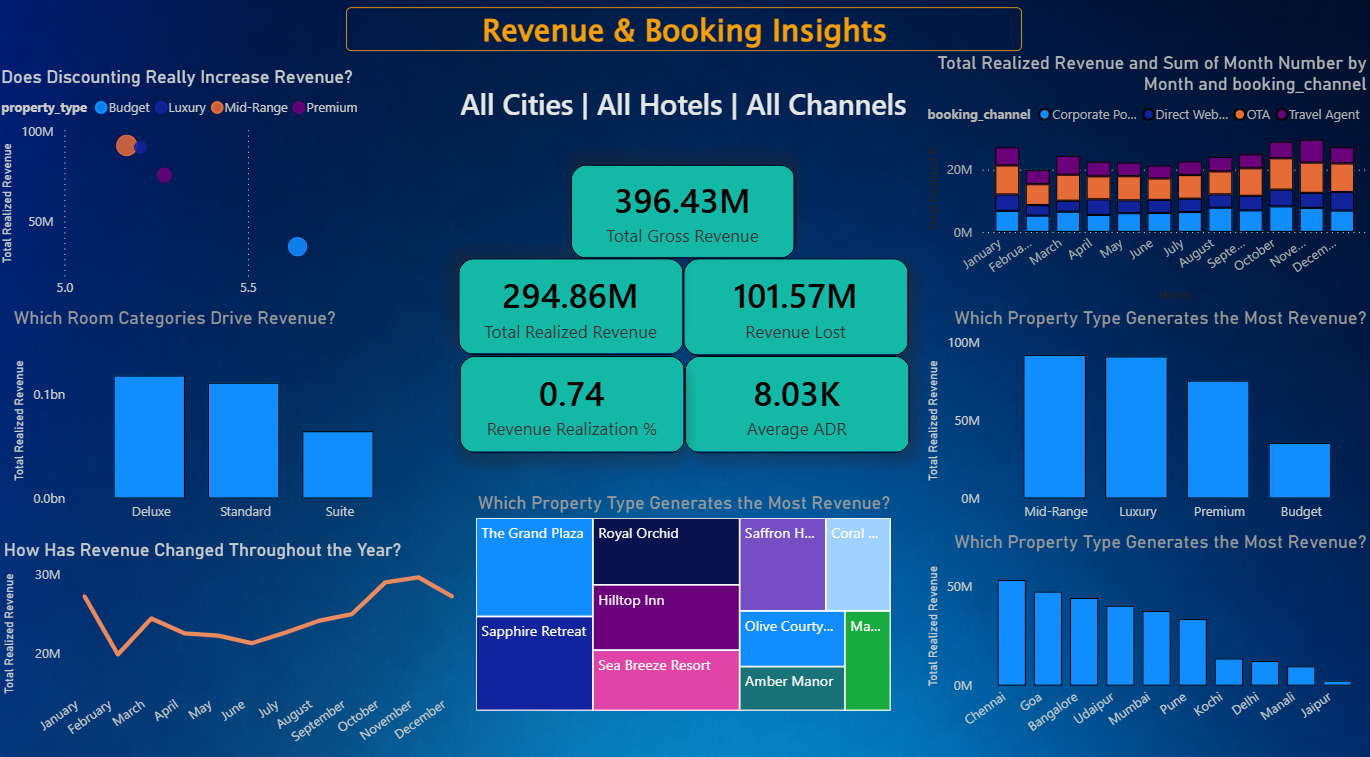

Layout of this report page (visuals, bound fields, positions):
{"tool":"powerbi","page":{"name":"Page 2","canvas":[1280,720],"ordinal":1},"visuals":[{"type":"cardVisual","fields":{"Data":["Measure_Table.Revenue Lost"]},"box":[639.5,248.8,209.3,90.7],"z":0},{"type":"cardVisual","fields":{"Data":["Measure_Table.Average ADR"]},"box":[640.7,339.5,209.3,90.7],"z":1000},{"type":"cardVisual","fields":{"Data":["Measure_Table.Revenue Realization %"]},"box":[431.4,339.5,209.3,90.7],"z":2000},{"type":"cardVisual","fields":{"Data":["Measure_Table.Total Realized Revenue"]},"box":[430.2,248.8,209.3,89.5],"z":3000},{"type":"cardVisual","fields":{"Data":["Measure_Table.Total Gross Revenue"]},"box":[535,161.2,208.8,87.5],"z":3001},{"type":"lineChart","title":"How Has Revenue Changed Throughout the Year?","fields":{"Y":["Measure_Table.Total Realized Revenue"],"Category":["Dim_Date.Month"]},"box":[2.3,509.3,533.7,208.1],"z":3002},{"type":"textbox","title":"Revenue & Booking Insights","box":[325.6,15.1,629.1,40.7],"z":3003}]}

Visuals, with their boxes in screenshot pixels (x1, y1, x2, y2), scaled from the page's 1280x720 canvas onto the 1370x757 screenshot:
cardVisual - Measure_Table.Revenue Lost: l=684, t=262, r=908, b=357
cardVisual - Measure_Table.Average ADR: l=686, t=357, r=910, b=452
cardVisual - Measure_Table.Revenue Realization %: l=462, t=357, r=686, b=452
cardVisual - Measure_Table.Total Realized Revenue: l=460, t=262, r=684, b=356
cardVisual - Measure_Table.Total Gross Revenue: l=573, t=169, r=796, b=261
"How Has Revenue Changed Throughout the Year?" lineChart: l=2, t=535, r=574, b=754
"Revenue & Booking Insights" textbox: l=348, t=16, r=1022, b=59
